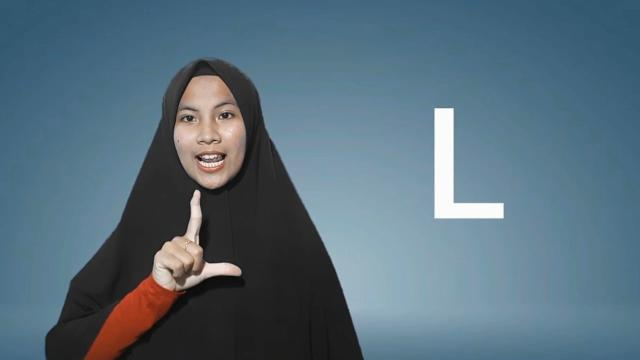L: (148, 188, 246, 298)
